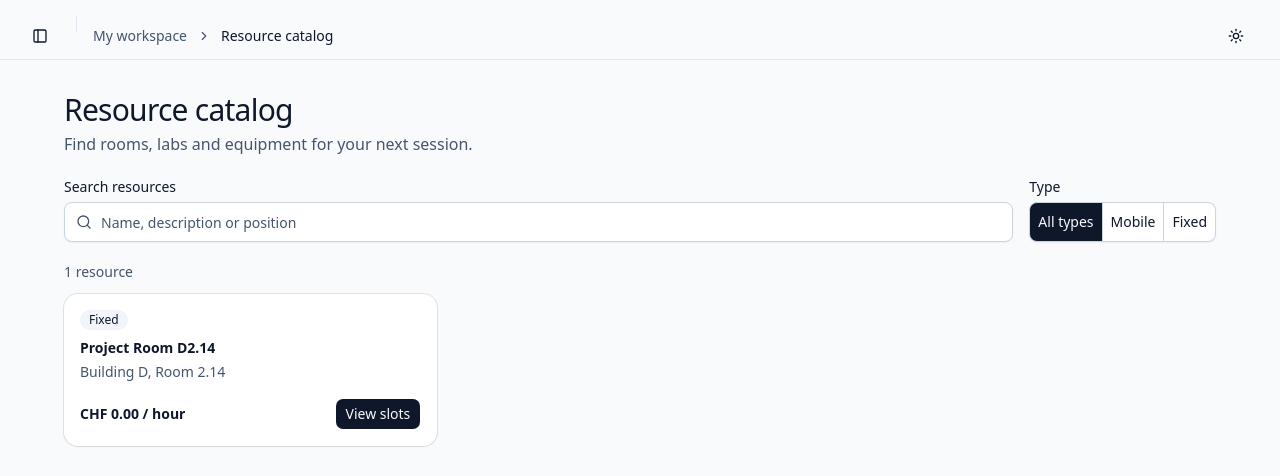
Test: ResourceCatalogPage › ignores a stale response that arrives after a newer one
The width and height of the screenshot is (1280, 476).
expect the link with aria-label "Project Room" is shown: met, box [334,398,421,430]
What coordinates should you click on to do the following:
click the radio button labelled "Mobile"
I would click on:
 (1134, 222)
Its box is [1103,202,1164,242].
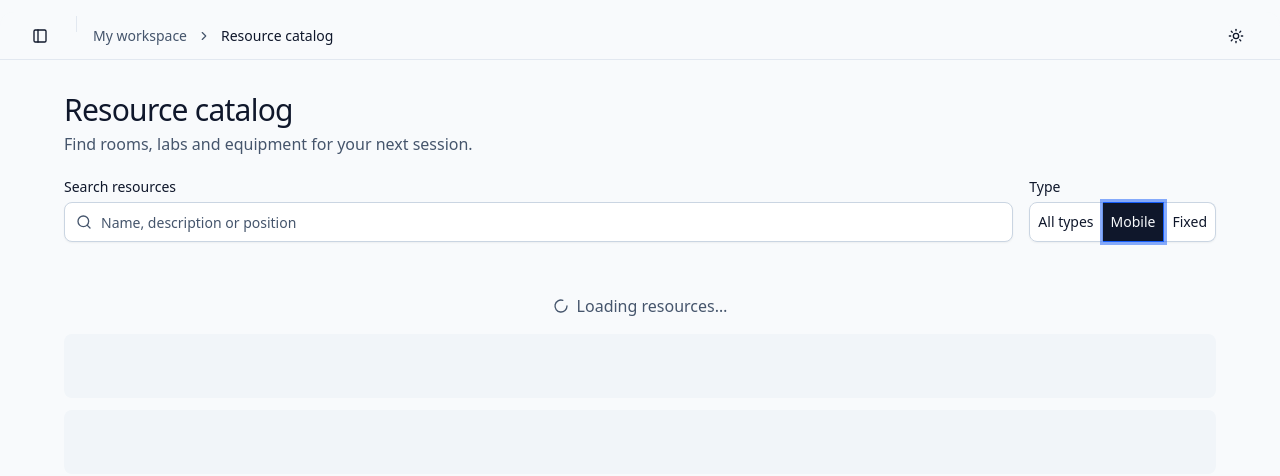
What coordinates should you click on to do the following:
click the radio button labelled "Fixed"
I would click on:
 (1190, 222)
Its box is [1164,202,1216,242].
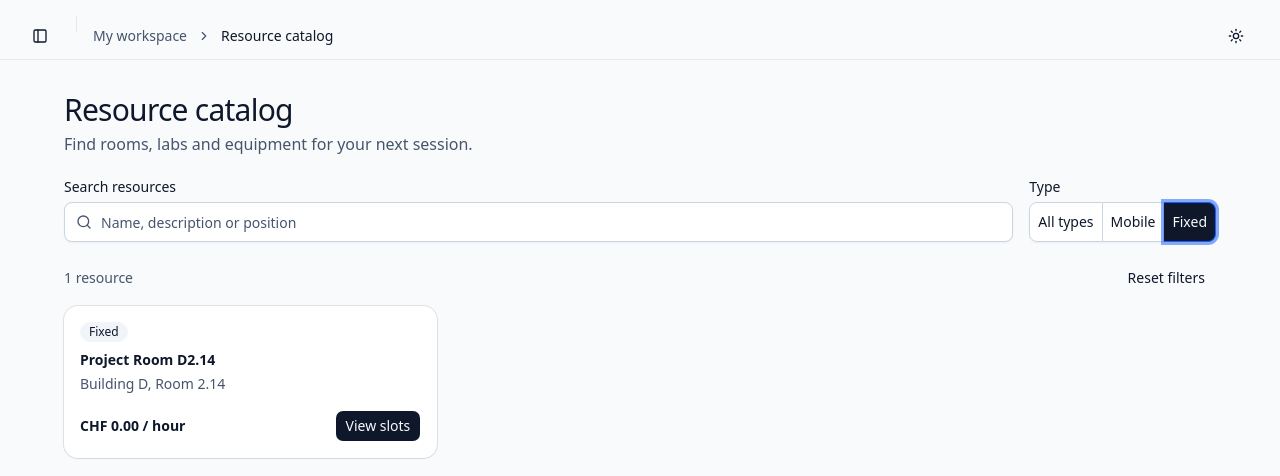
expect the link with aria-label "Project Room" is shown: met, box [334,410,421,442]
